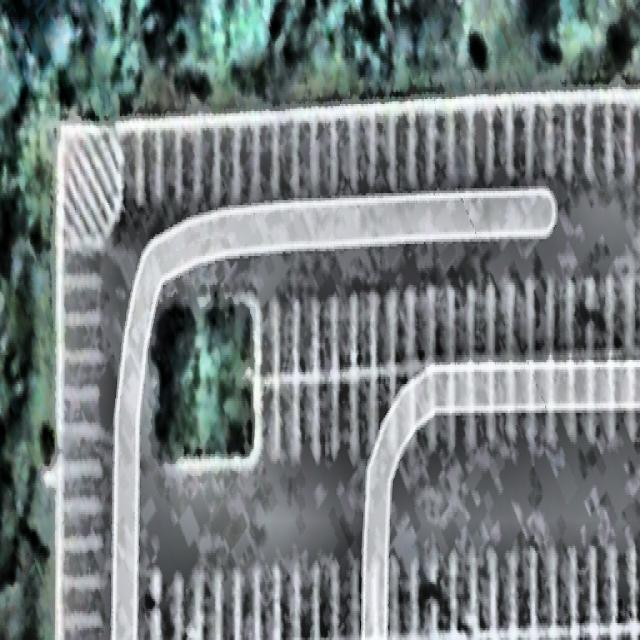Empty: (605, 95, 639, 180), (504, 104, 538, 188), (427, 113, 461, 195), (60, 532, 106, 592), (583, 96, 616, 177), (291, 375, 324, 456), (232, 118, 262, 207), (544, 273, 576, 356), (252, 116, 281, 207), (464, 111, 497, 189), (60, 419, 104, 477), (156, 121, 184, 210), (349, 379, 379, 462), (59, 383, 105, 437), (311, 560, 342, 640), (446, 106, 476, 188), (59, 307, 102, 364), (407, 110, 436, 194), (526, 90, 554, 177), (564, 92, 594, 173), (328, 122, 361, 195), (59, 457, 102, 513), (350, 115, 379, 198), (390, 108, 417, 195), (314, 378, 343, 459), (271, 562, 301, 640), (294, 301, 324, 379), (60, 496, 104, 549), (351, 297, 382, 372), (586, 272, 615, 352), (332, 298, 362, 375), (273, 298, 304, 372), (509, 558, 540, 632), (293, 562, 322, 640), (64, 264, 101, 325), (370, 116, 398, 196), (410, 564, 442, 634), (62, 576, 103, 630), (175, 128, 203, 207), (568, 279, 596, 358), (331, 568, 362, 639), (60, 342, 99, 398), (329, 384, 357, 462), (450, 558, 482, 626), (194, 126, 223, 201), (368, 292, 395, 372), (488, 279, 516, 356), (405, 291, 436, 360), (532, 552, 558, 634), (490, 556, 520, 627), (545, 100, 573, 176), (232, 567, 261, 640), (214, 123, 240, 204), (389, 288, 417, 363), (468, 283, 496, 358), (277, 120, 300, 210), (139, 130, 165, 209), (311, 118, 338, 194), (591, 546, 618, 622), (120, 127, 148, 200), (431, 292, 459, 365), (255, 294, 279, 379), (252, 567, 279, 640), (609, 547, 636, 620), (430, 560, 458, 630), (550, 552, 580, 616), (151, 575, 180, 640), (574, 550, 600, 622), (607, 276, 632, 350), (316, 292, 338, 376), (508, 282, 532, 359), (528, 282, 552, 359), (487, 109, 513, 180), (295, 120, 318, 200), (472, 554, 496, 628), (178, 575, 204, 640), (278, 382, 301, 454), (218, 572, 242, 640), (198, 575, 222, 640), (58, 608, 101, 640), (624, 268, 640, 348), (624, 99, 640, 169), (630, 551, 640, 630), (609, 635, 640, 640), (493, 635, 522, 640), (588, 637, 623, 640), (550, 637, 584, 640), (507, 637, 540, 640), (220, 157, 223, 177)
